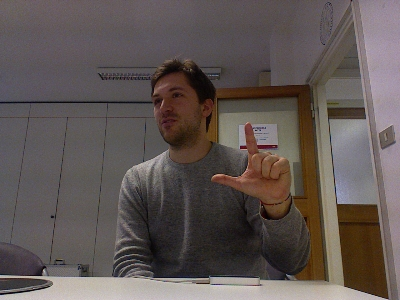枪: (208, 121, 292, 201)
